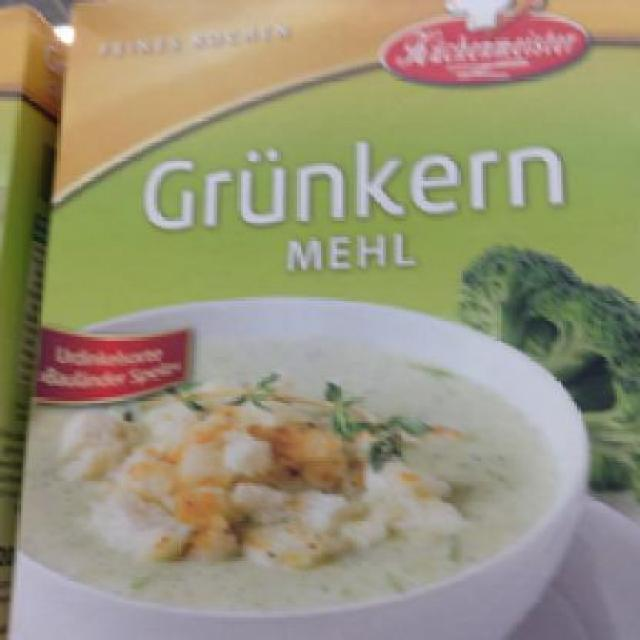Flour: (7, 0, 638, 632)
